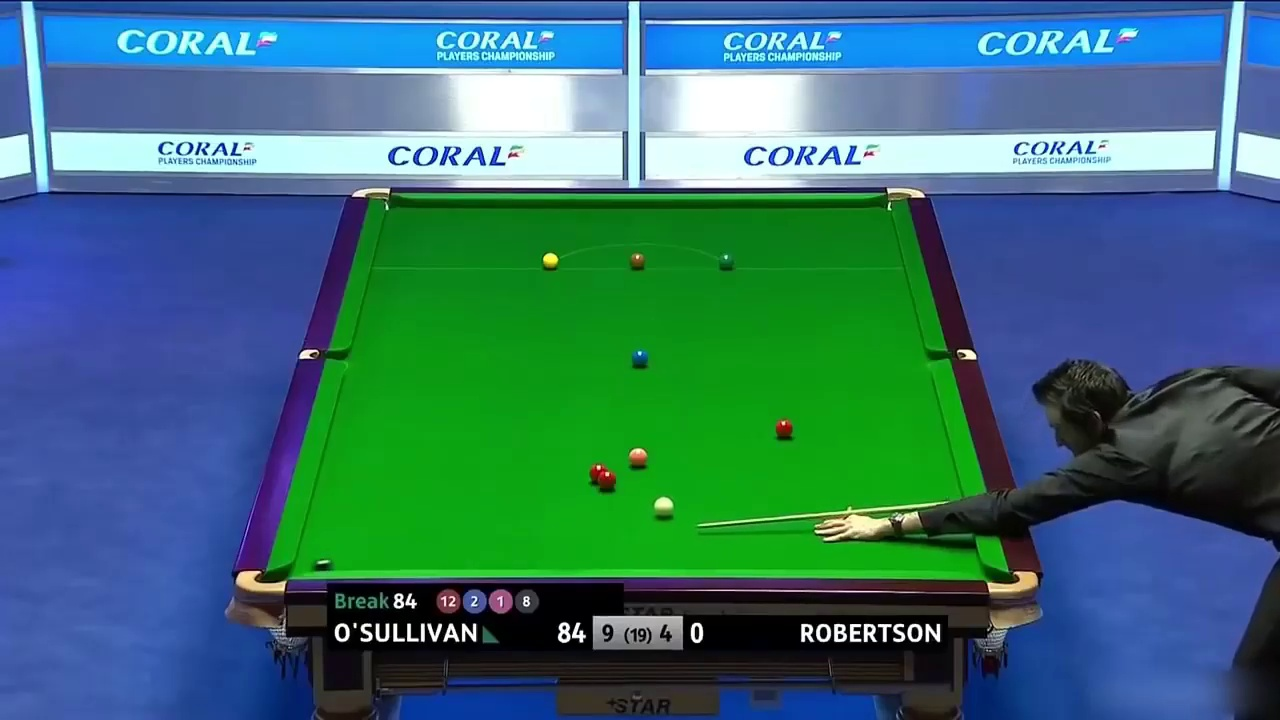ball: (624, 447, 651, 468), (652, 496, 676, 519), (773, 418, 796, 439), (538, 252, 564, 270), (629, 249, 649, 268), (630, 350, 649, 366), (719, 253, 734, 268)
